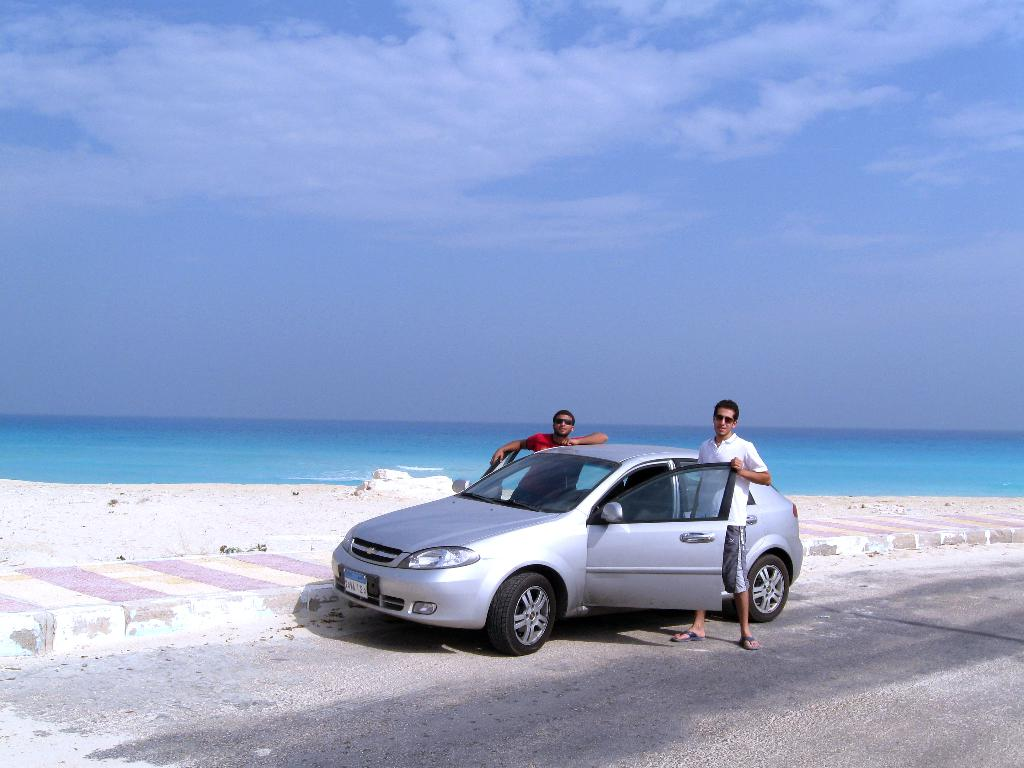Car: (316, 436, 807, 656)
